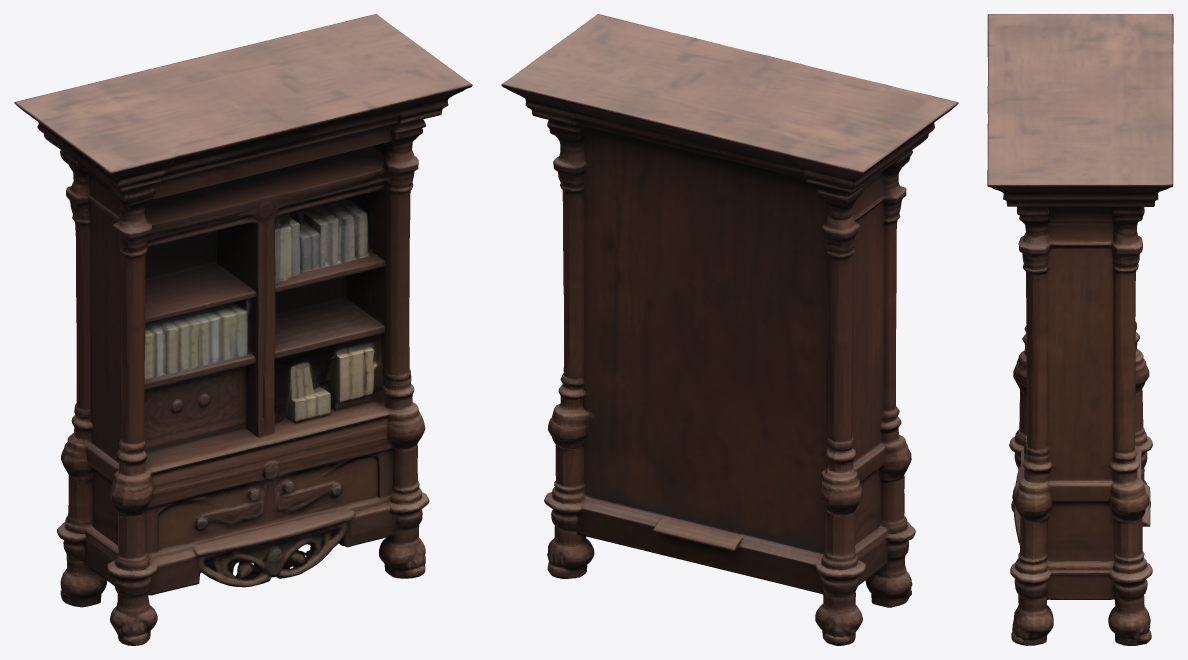
Rendered from bookshelf.obj.
3 renders of one model, left to right at view 1: azimuth 30°, elevation 25°; view 2: azimuth 150°, elevation 25°; view 3: azimuth 270°, elevation 25°, orthographic. The views are drawn at different scales.
Parts seen in each view (by area): view 1: obj1; view 2: obj1; view 3: obj1.
Part boxes in pixels (left/top/right/bottom): obj1: left=14, top=14, right=472, bottom=645; obj1: left=501, top=14, right=958, bottom=645; obj1: left=987, top=14, right=1173, bottom=645.
Size of the model in its own units: 0.768 by 1 by 0.3542.
Materials: 1 (1 with a texture image).
